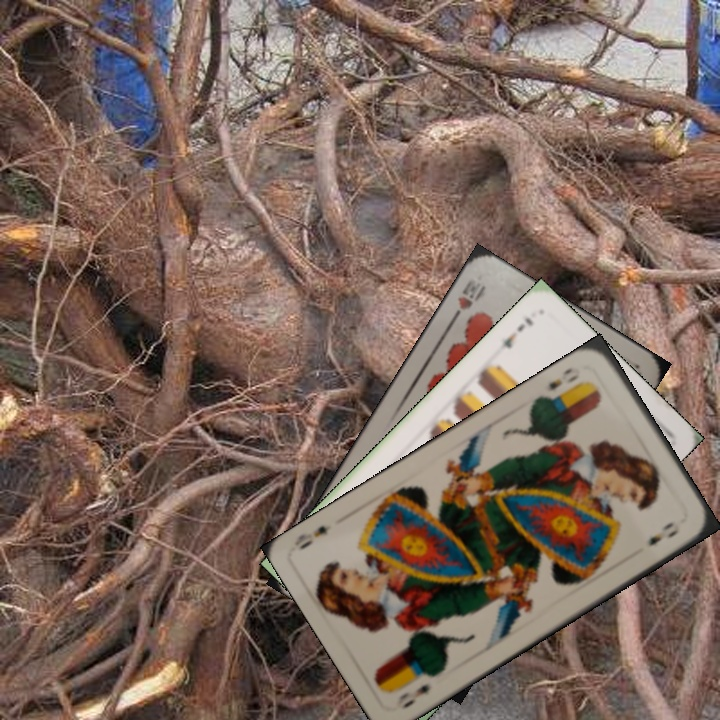E7: (498, 313, 536, 352)
EO: (391, 679, 433, 712), (543, 363, 582, 394)
H10: (445, 275, 489, 327)
